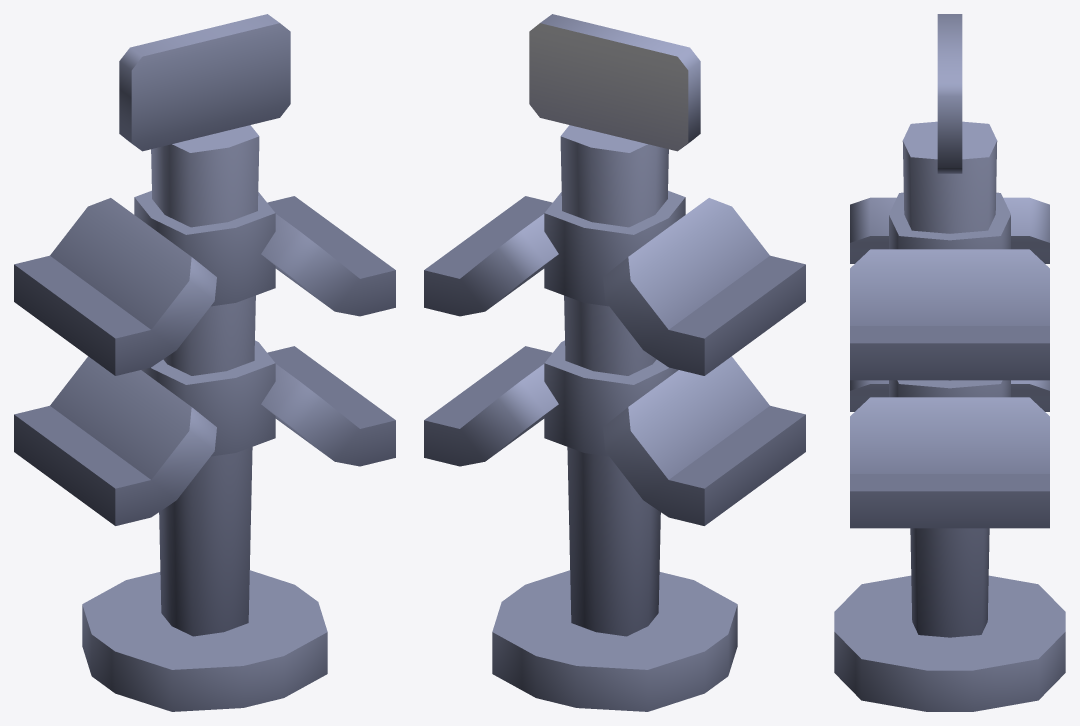
File: display_small.fbx
3 views of the same model, side by side, from view 1: azimuth 30°, elevation 25°; view 2: azimuth 150°, elevation 25°; view 3: azimuth 270°, elevation 25° (orthographic).
Visible parts, largest first — view 1: display-small; view 2: display-small; view 3: display-small.
Part boxes in pixels (bbox=[...]): display-small: bbox=[14, 14, 395, 711]; display-small: bbox=[424, 14, 805, 711]; display-small: bbox=[834, 14, 1065, 711].
Size of the model in its own units: 0.4698 by 1 by 0.3403.
